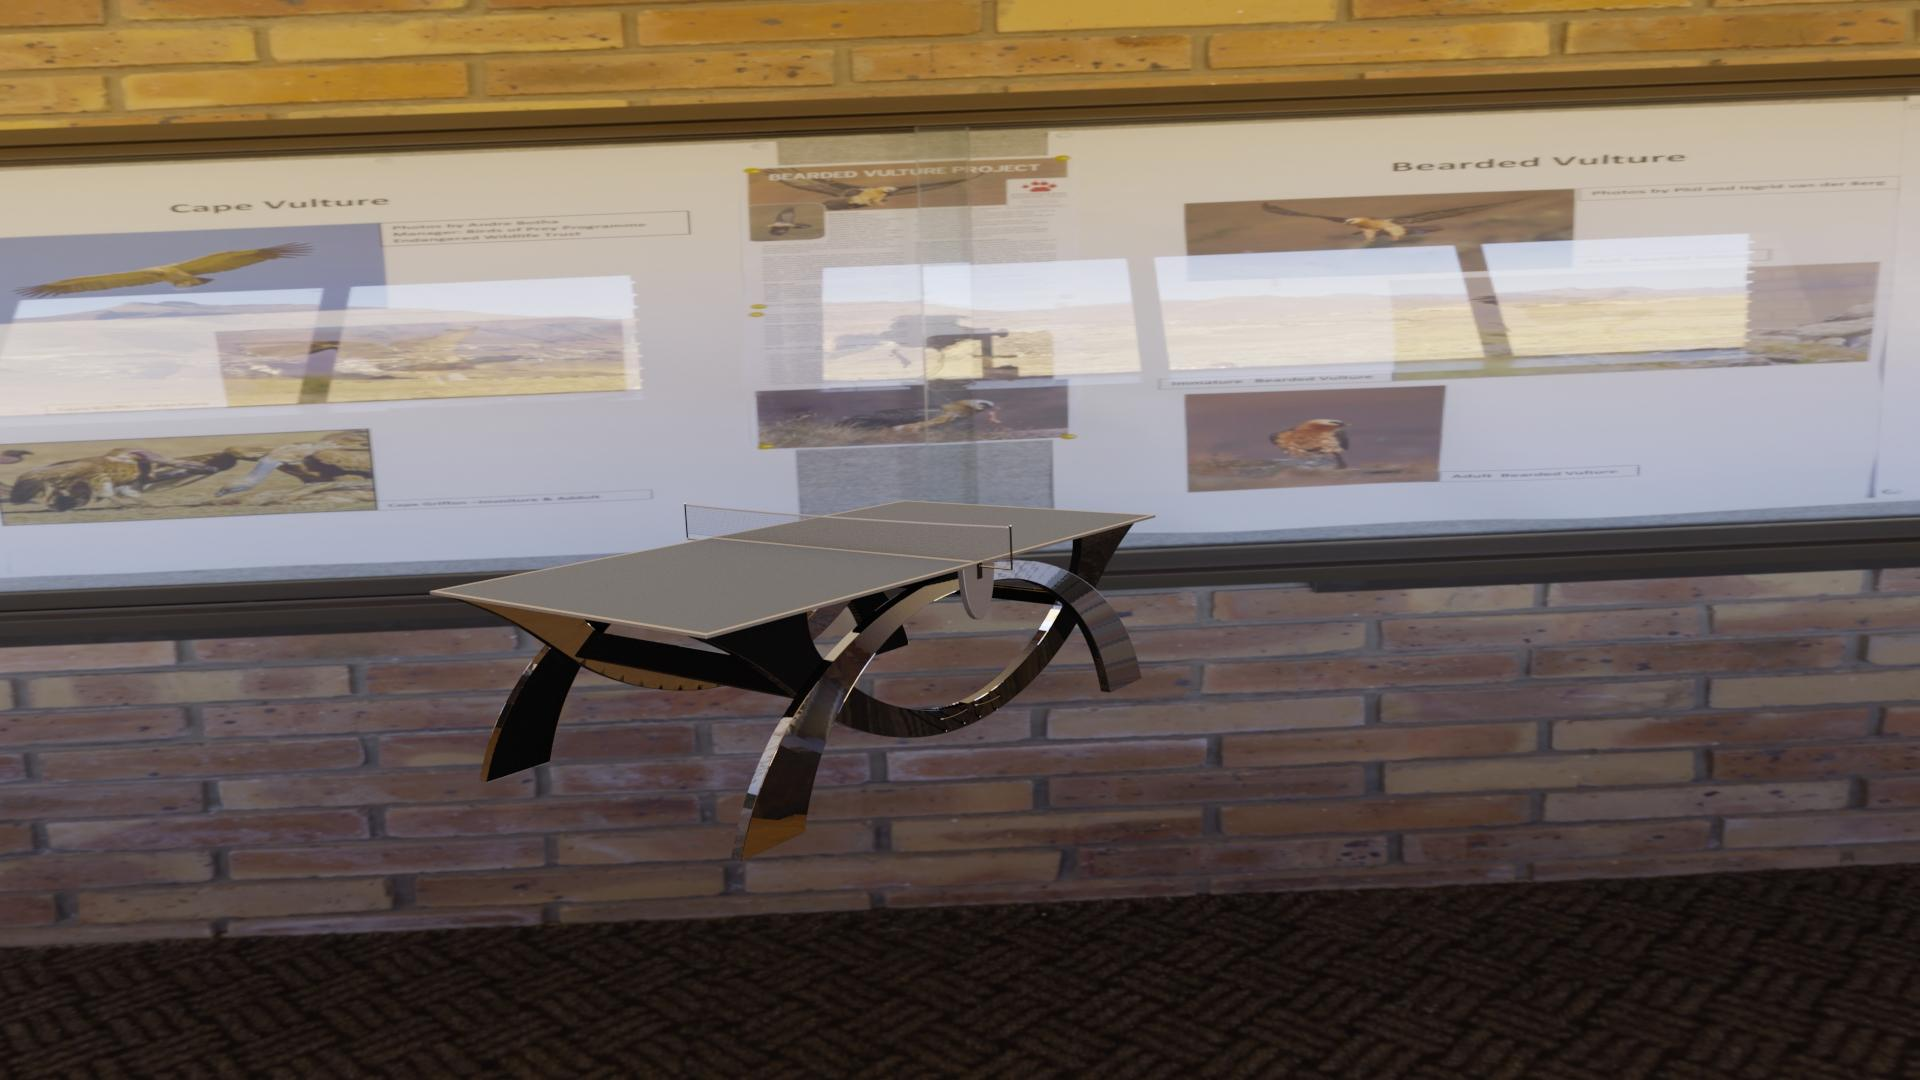table: (438, 501, 1150, 633)
